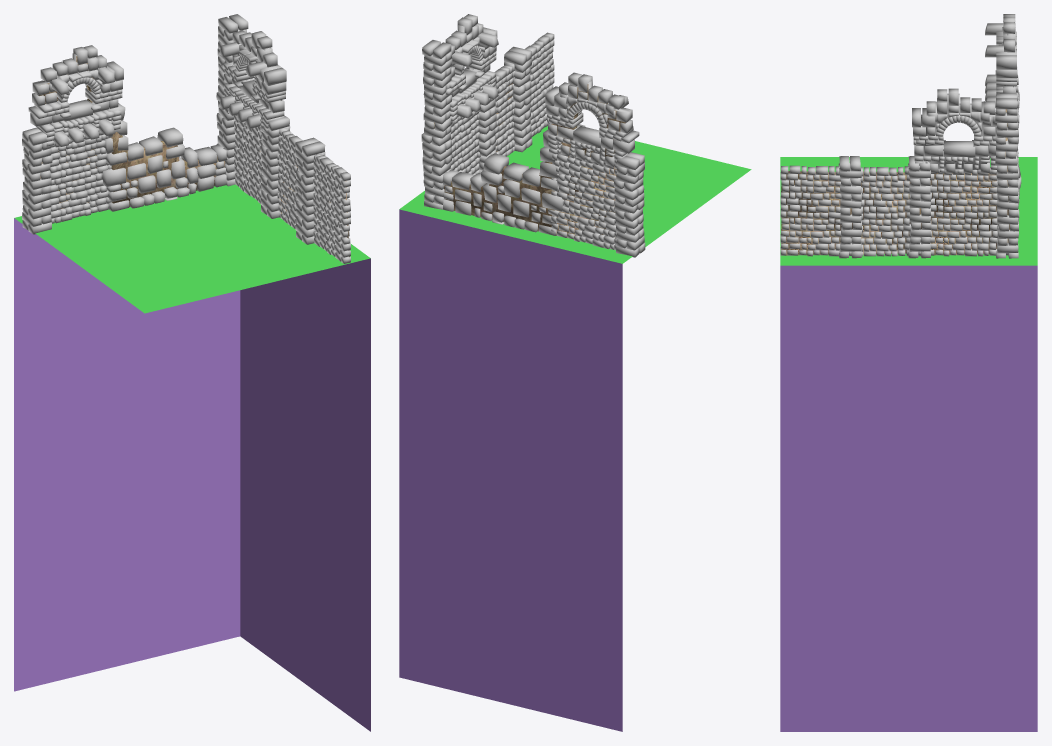
The model's file is RoomCornder_5.Lod1.fbx.
The picture shows the model from 3 angles, left to right: view 1: azimuth 30°, elevation 25°; view 2: azimuth 150°, elevation 25°; view 3: azimuth 270°, elevation 25°; orthographic projection.
Visible parts, largest first — view 1: RoomCornder_5.Lod1; view 2: RoomCornder_5.Lod1; view 3: RoomCornder_5.Lod1.
Boxes of the visible parts, box(x1,y1,x2,y2) form: RoomCornder_5.Lod1: box(14, 14, 370, 731); RoomCornder_5.Lod1: box(399, 14, 751, 731); RoomCornder_5.Lod1: box(780, 14, 1037, 731).
Bounding box in the file's own units: 405 × 1081 × 400.
